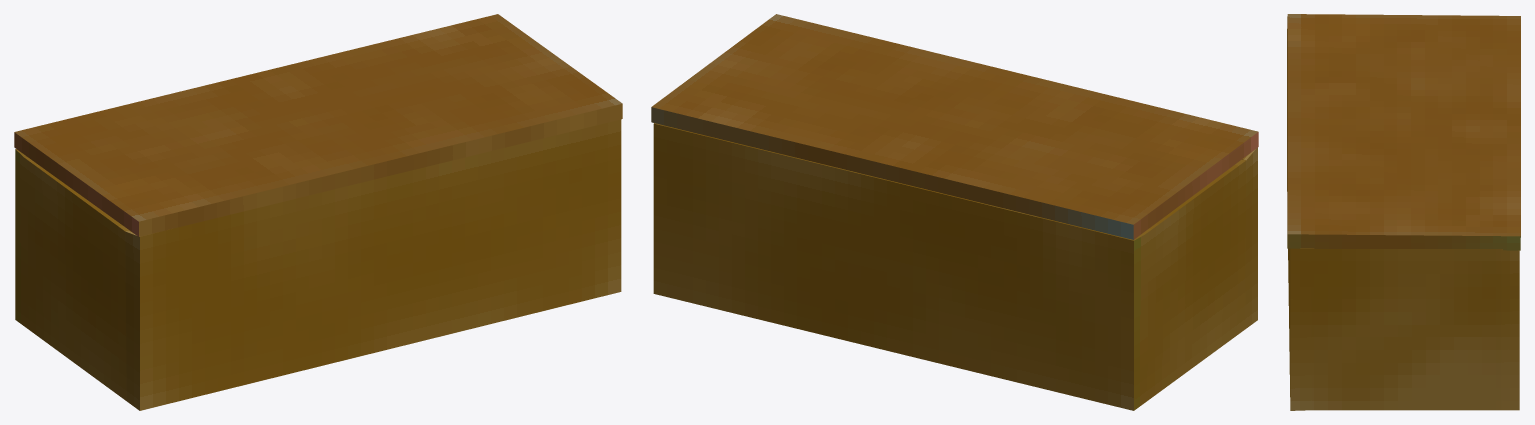
Rendered from Chest to godot.glb.
The picture shows the model from 3 angles, left to right: view 1: azimuth 30°, elevation 25°; view 2: azimuth 150°, elevation 25°; view 3: azimuth 270°, elevation 25°; orthographic projection. The views are drawn at different scales.
Parts seen in each view (by area): view 1: ChestBody, ChestLid; view 2: ChestBody, ChestLid; view 3: ChestLid, ChestBody.
Boxes of the visible parts, left/top/right/bottom form: ChestBody: left=15, top=119, right=621, bottom=410; ChestLid: left=14, top=14, right=622, bottom=236; ChestBody: left=653, top=123, right=1257, bottom=410; ChestLid: left=651, top=14, right=1258, bottom=239; ChestLid: left=1287, top=14, right=1520, bottom=250; ChestBody: left=1287, top=29, right=1519, bottom=410.
Bounding box in the file's own units: 1.16 × 0.4339 × 0.5203.
Materials: 2 (2 with a texture image).
